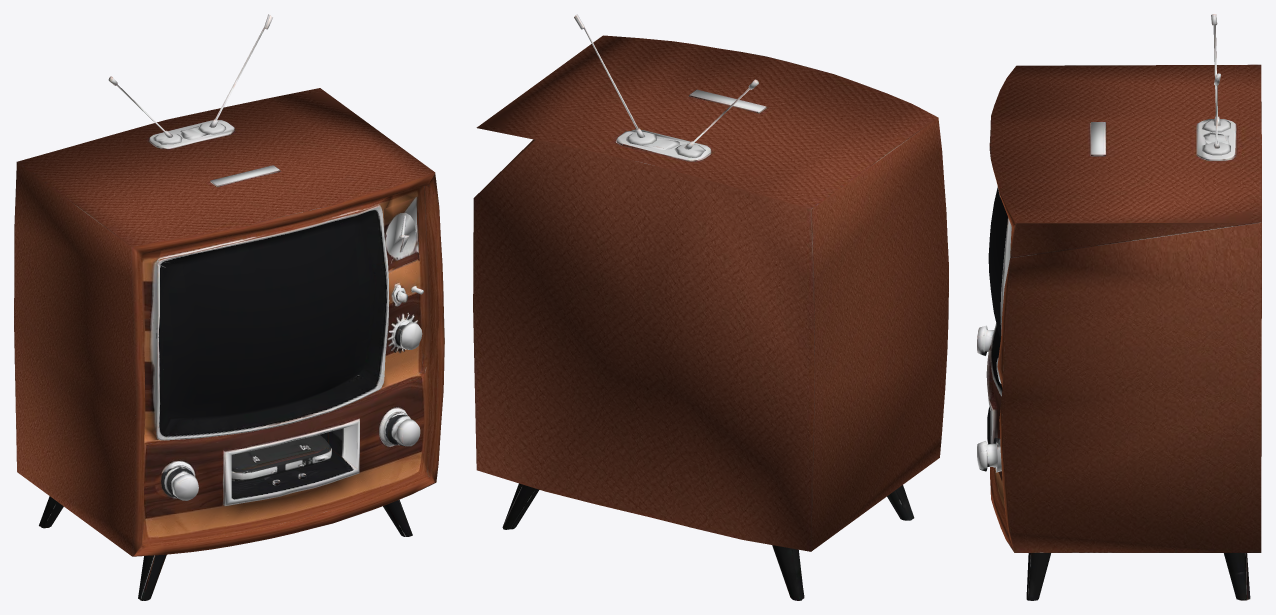
File: crt_tv.glb
3 renders of one model, left to right at view 1: azimuth 30°, elevation 25°; view 2: azimuth 150°, elevation 25°; view 3: azimuth 270°, elevation 25°, orthographic. The views are drawn at different scales.
Size of the model in its own units: 0.6572 by 0.9517 by 0.4922.
1 material, 1 textured.
